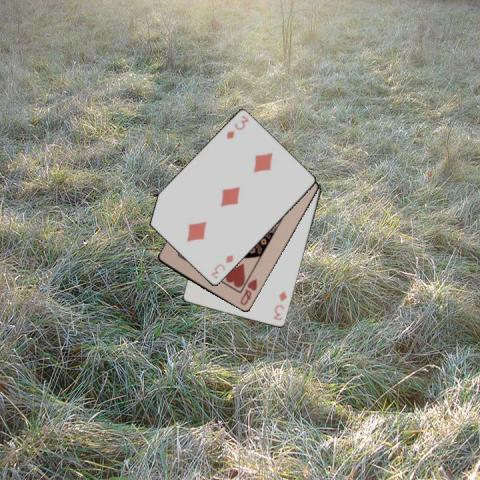3d: (208, 252, 235, 281), (223, 112, 250, 140), (271, 289, 288, 322)
Qh: (237, 276, 259, 307)
